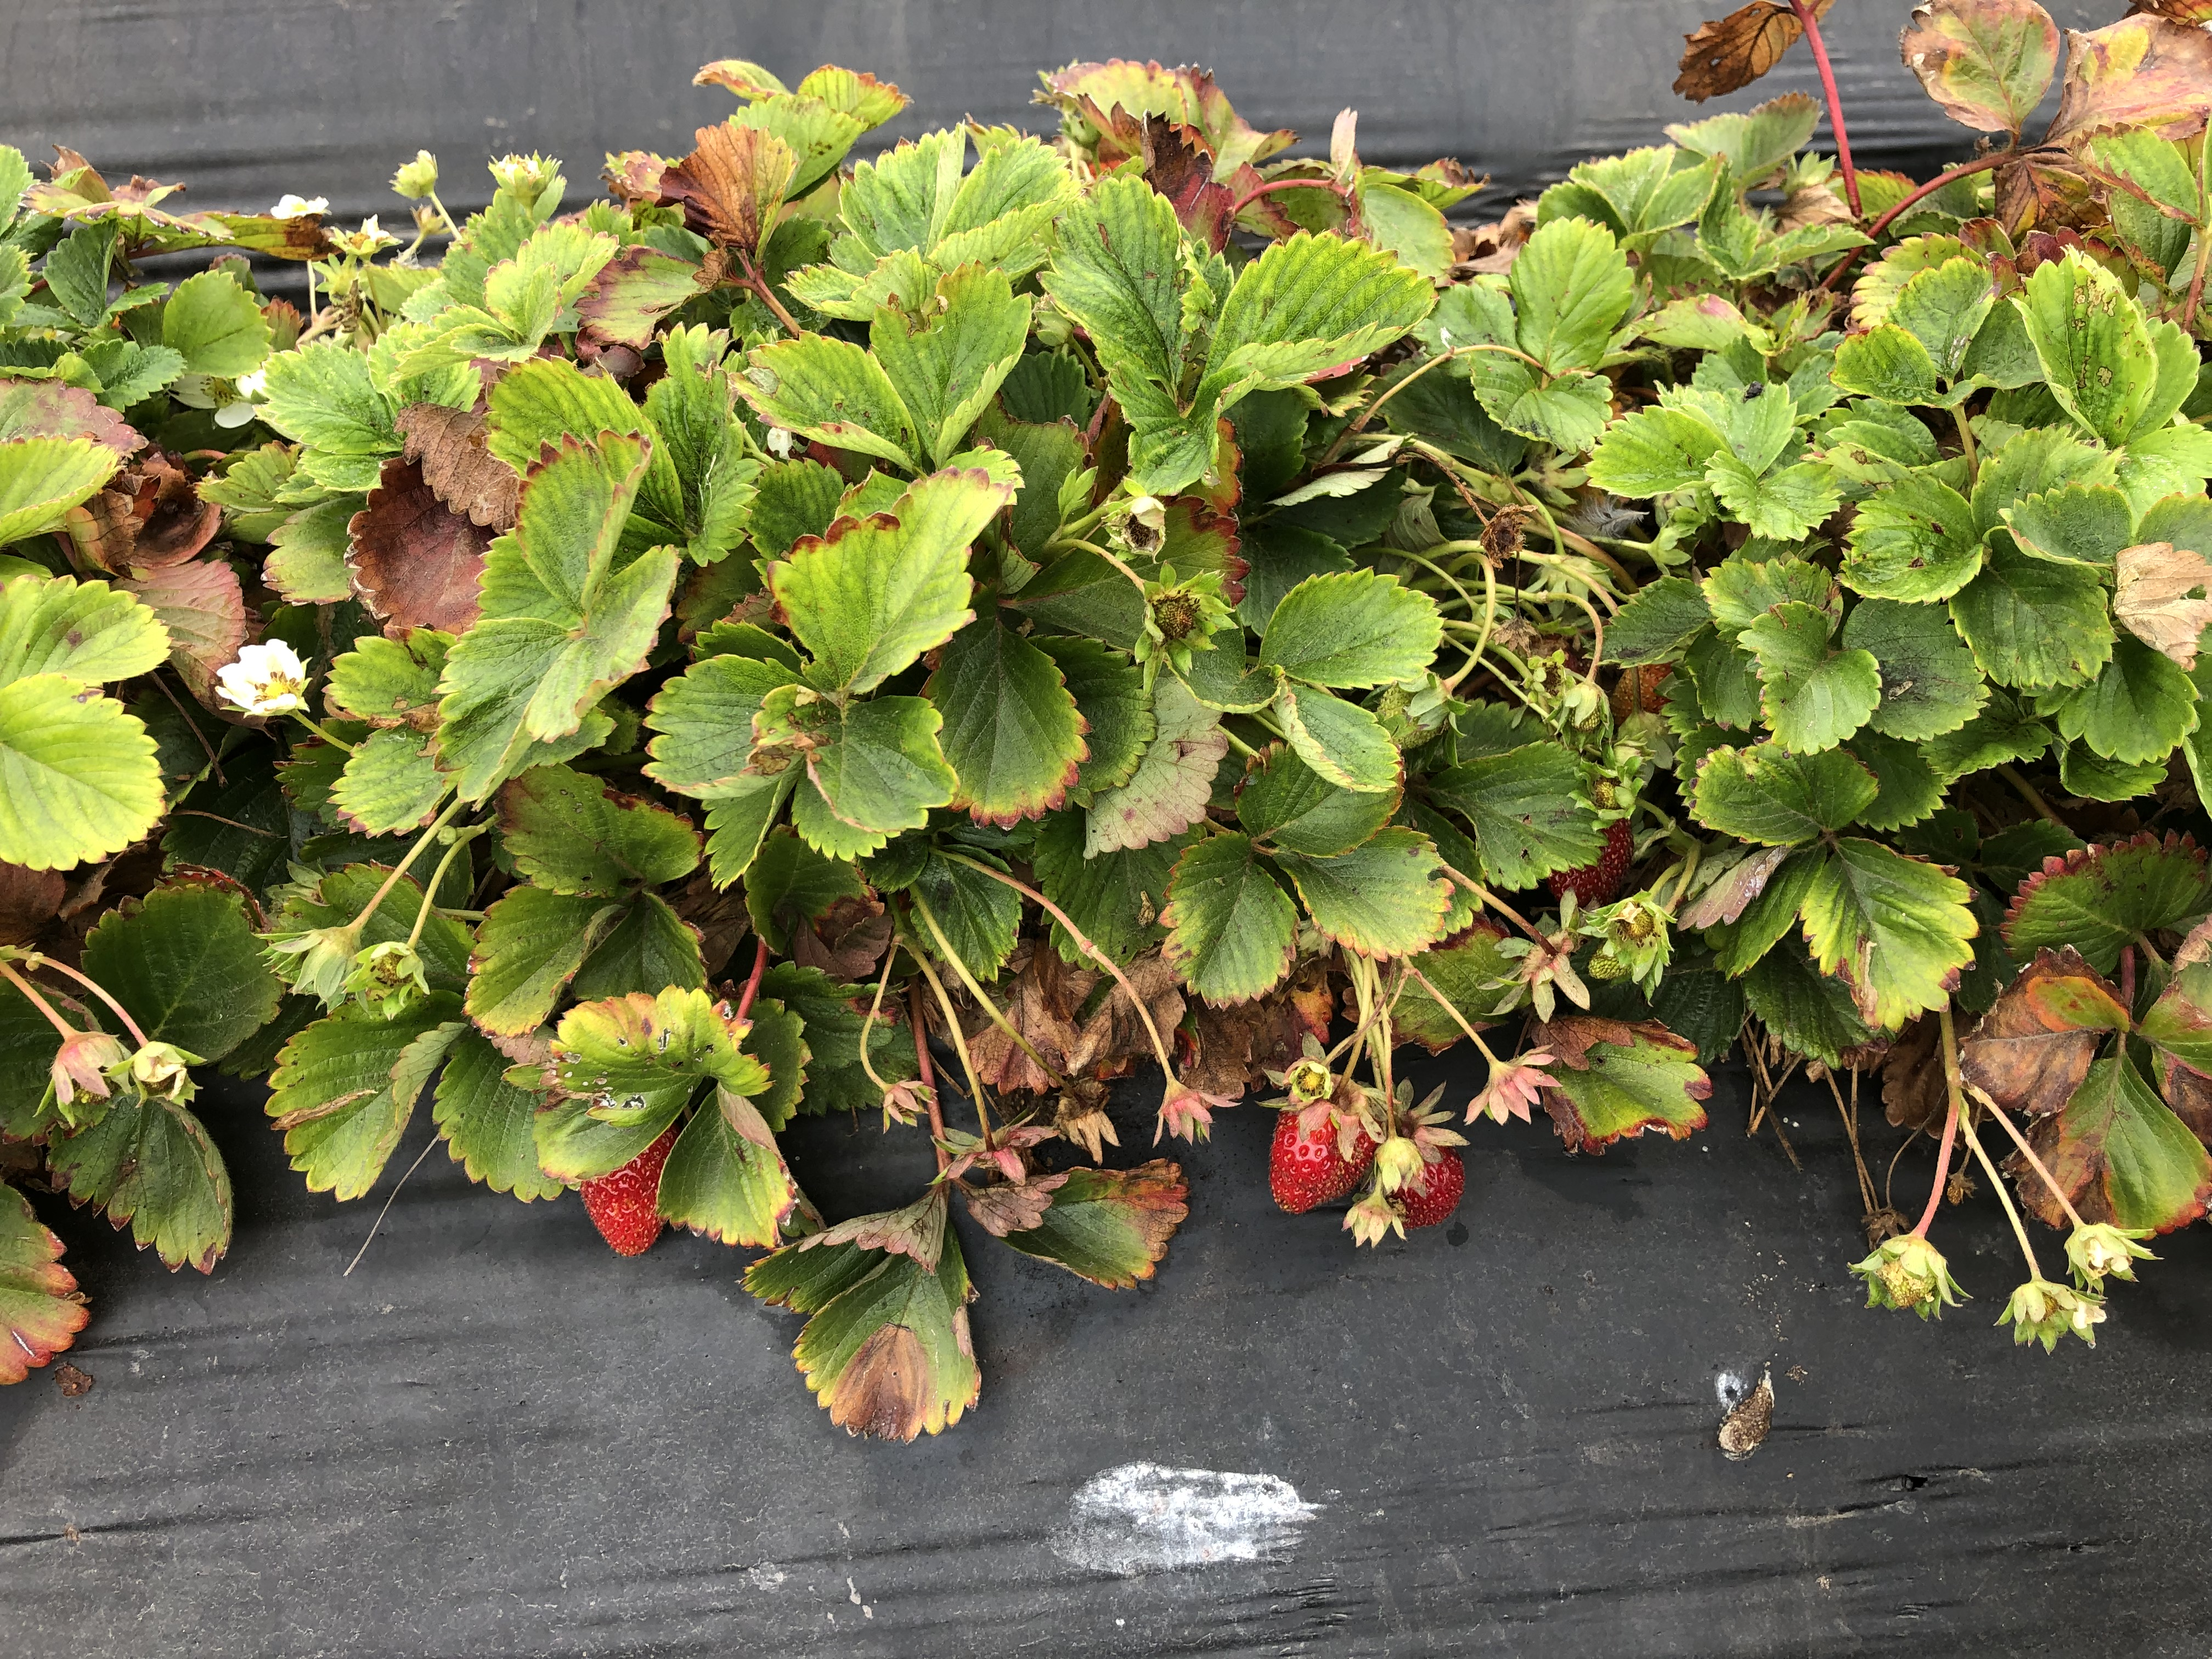ripe_strawberry: (1552, 812, 1637, 913)
unripe_strawberry: (1264, 1075, 1371, 1220), (571, 1126, 679, 1258), (1374, 1131, 1468, 1236), (1869, 1227, 1944, 1316), (1615, 660, 1676, 723)
